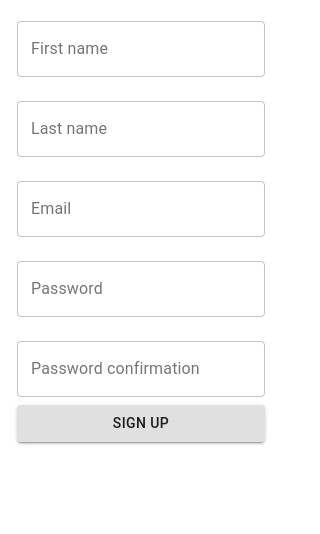
Scenario: SignUpPage › with invalid data › does not submit form if password and password confirmation does not match
Type "123456" into the password field with test id "password" at {"x": 141, "y": 289}, box [17, 261, 265, 317]
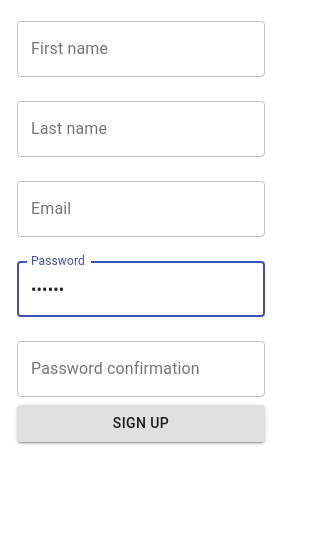
Type "112345" into the password field with test id "password_confirmation" at {"x": 141, "y": 369}, box [17, 341, 265, 397]
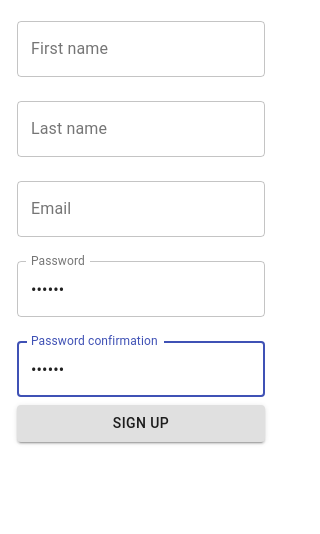
Click the button with test id "signup-button" at {"x": 141, "y": 423}, box [17, 405, 265, 442]
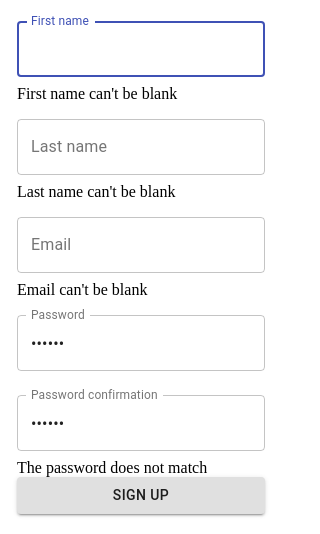
Expected: the text "The password does not match" is shown, [17, 459, 207, 476]
